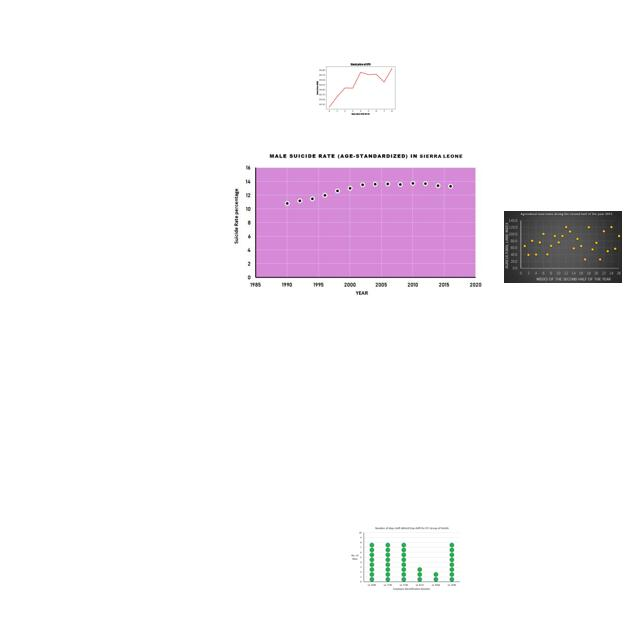Graph: (233, 150, 486, 298), (504, 211, 622, 283), (349, 524, 462, 594), (315, 54, 404, 121)
